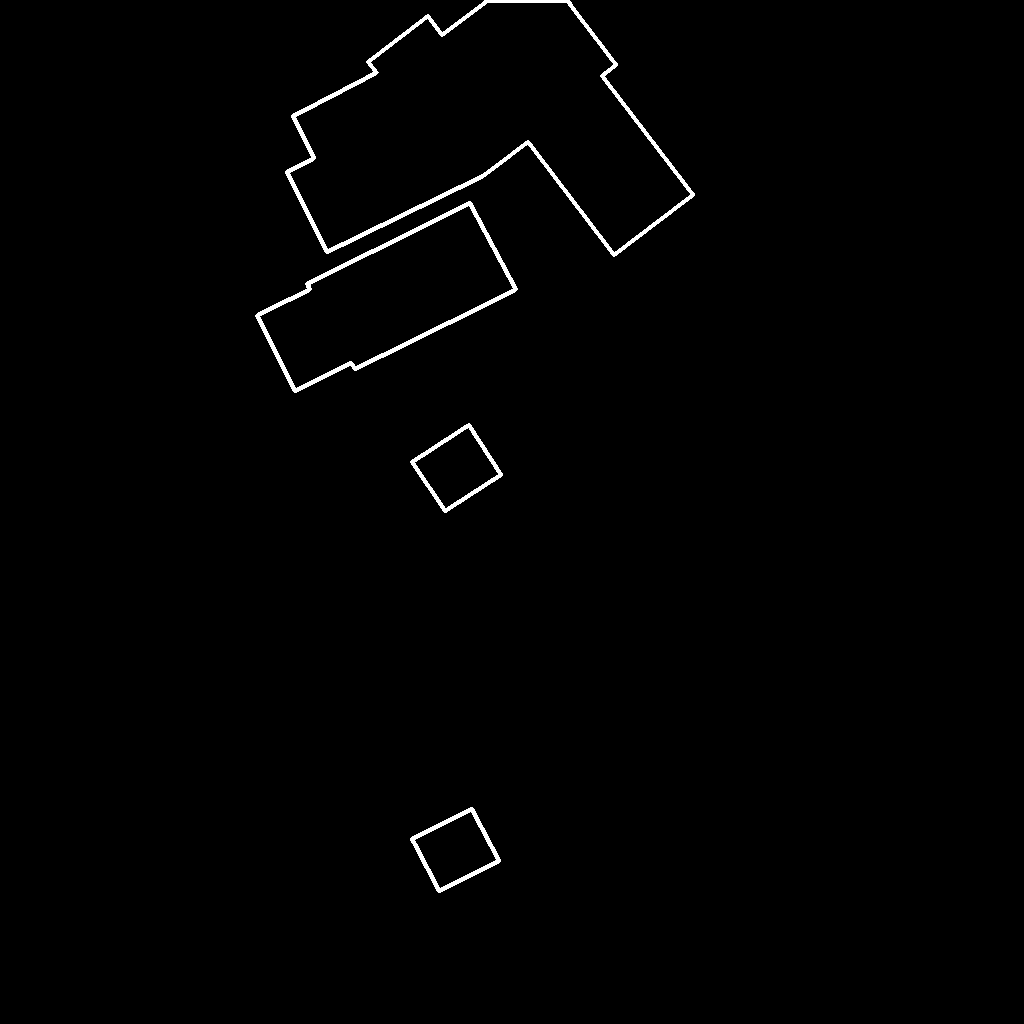building: (287, 0, 694, 256), (257, 203, 517, 392), (412, 425, 502, 512), (412, 809, 500, 892)
